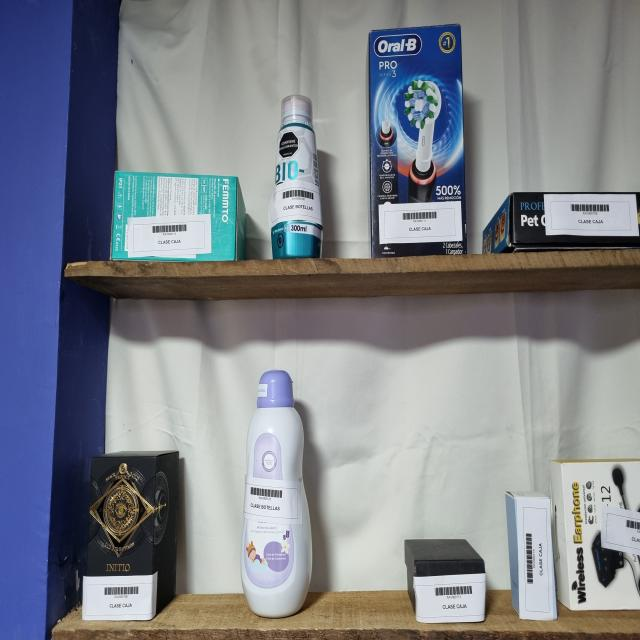botella: (241, 370, 312, 618), (269, 95, 323, 259)
caja: (369, 24, 467, 258), (82, 451, 179, 620), (551, 459, 640, 610), (111, 171, 246, 261), (482, 192, 640, 254), (405, 539, 486, 623), (505, 492, 557, 620)
